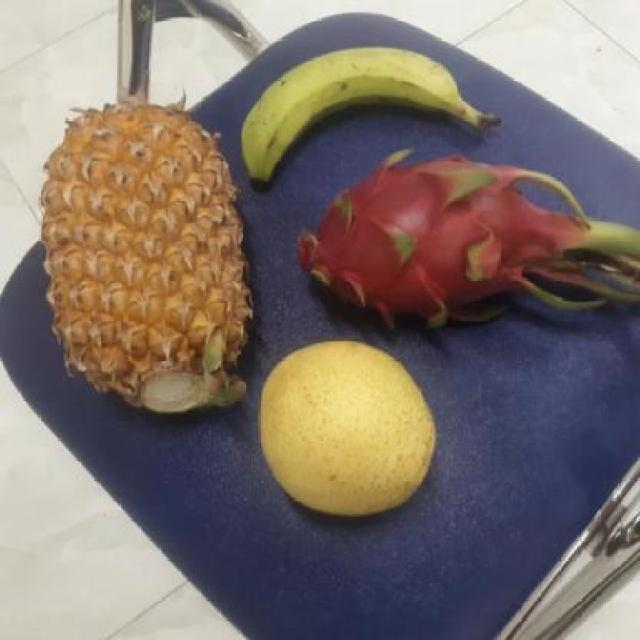banana: (229, 46, 471, 179)
dragon fruit: (280, 151, 565, 331)
pear: (248, 339, 440, 516)
pineapple: (38, 106, 250, 420)
